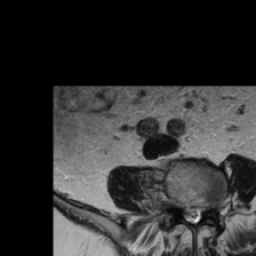CCS_stenosis: (189, 201, 196, 227)
LFS_severe_stenosis: (202, 195, 210, 215)
LLS_normal: (196, 202, 202, 224)
RFS_severe_stenosis: (174, 192, 182, 214)
RLS_normal: (182, 201, 189, 223)
